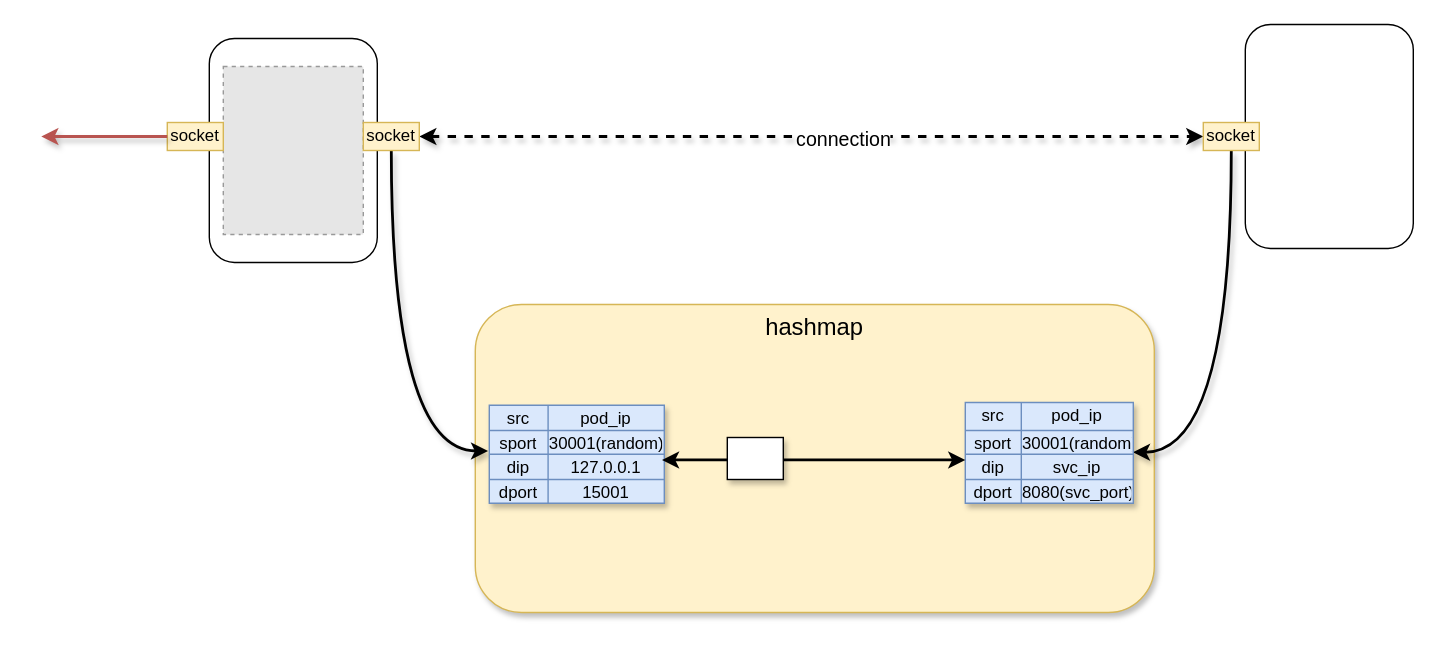
Some shapes in this 1438 by 647 pixel diagram are drawn without their labels. Grey dashed boxes stand in for pictures. The centre of each missing label's shape, as x and y in pixels:
client: point 1328,135
msg: point 756,459
